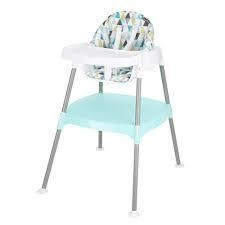obstacle: (42, 11, 180, 214)
